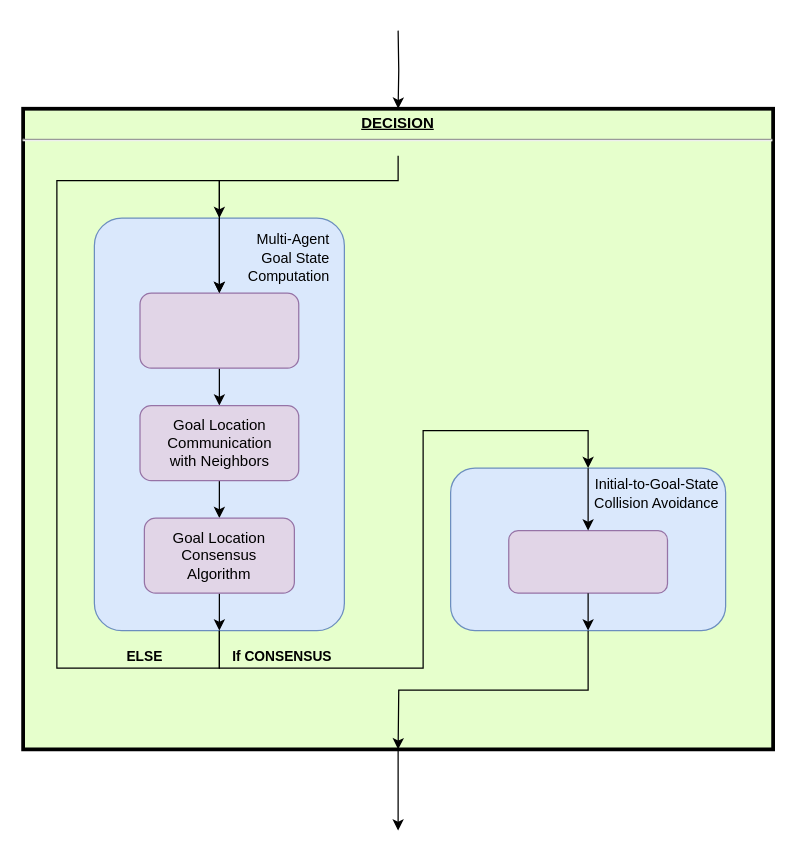
Image size: 796x863. Some labels were removed from this diagram. The shapes that lost their labels are listed below. From the top down, each one's centre as x and y in pixels, then its label:
At point 219,330: "Single-Agent Goal Proposal".
At point 588,561: "Distributed Task Allocation".
